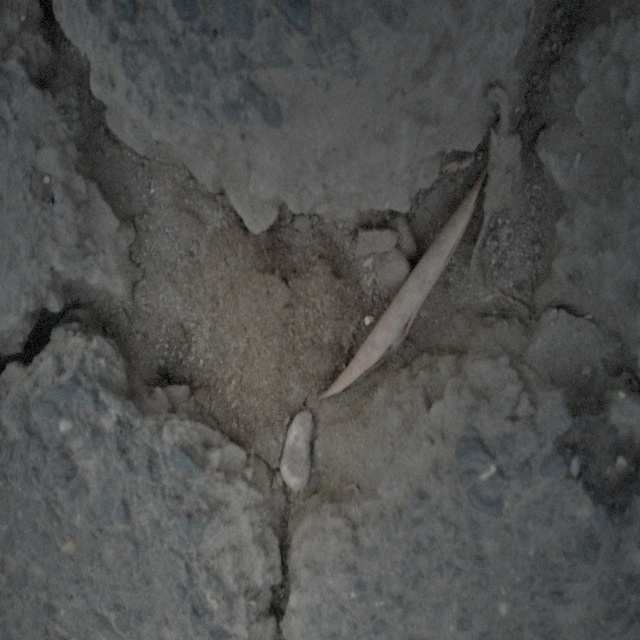pothole: (51, 32, 555, 502)
